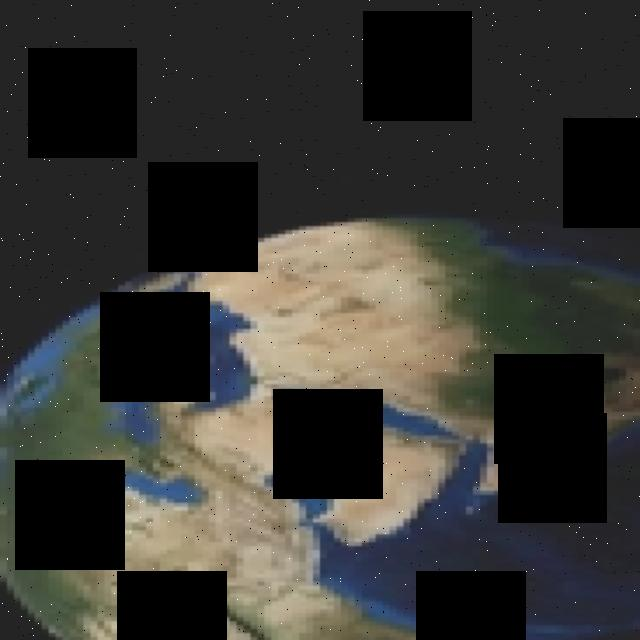Earth: (0, 210, 640, 640)
